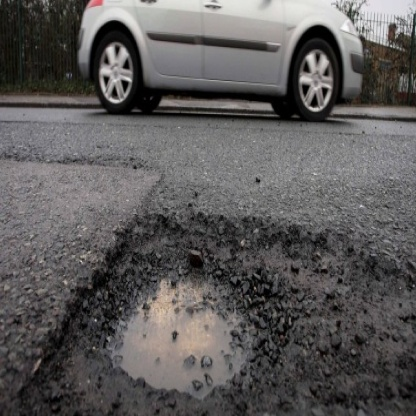pothole: (58, 202, 382, 416)
